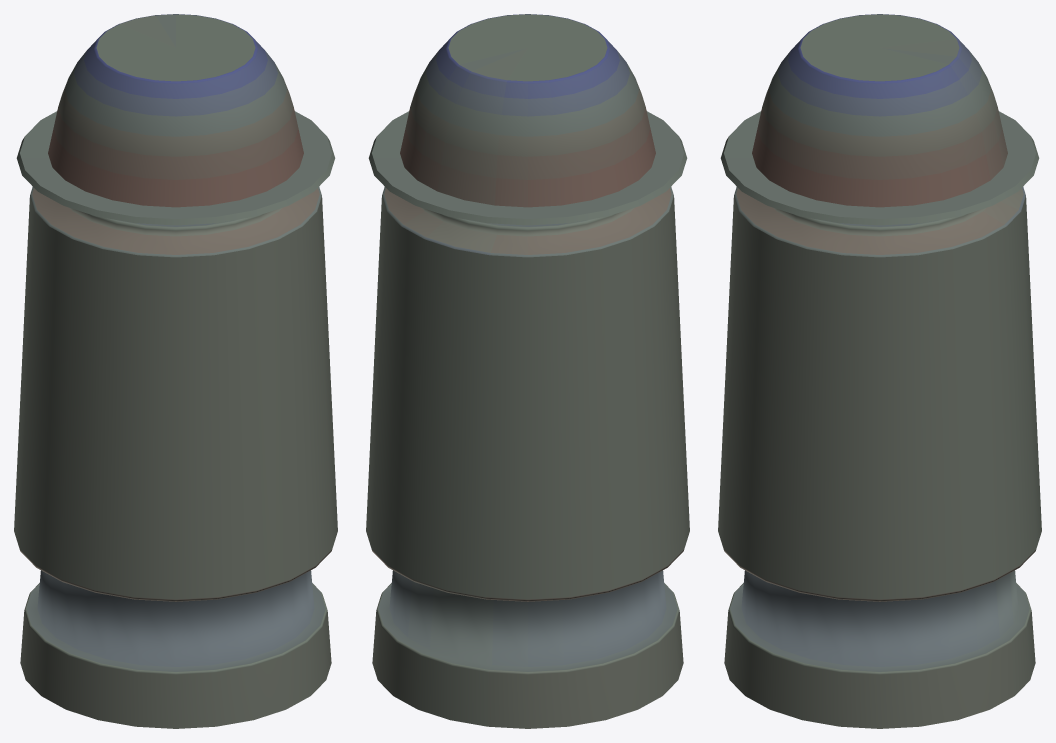
3 views of the same model, side by side, from view 1: azimuth 30°, elevation 25°; view 2: azimuth 150°, elevation 25°; view 3: azimuth 270°, elevation 25° (orthographic).
Parts seen in each view (by area): view 1: Cylinder; view 2: Cylinder; view 3: Cylinder.
Part boxes in pixels (x1,y1,x2,y2): Cylinder: (14,14,337,728); Cylinder: (366,14,689,728); Cylinder: (718,14,1041,728).
Bounding box in the file's own units: 133 × 278 × 133.
